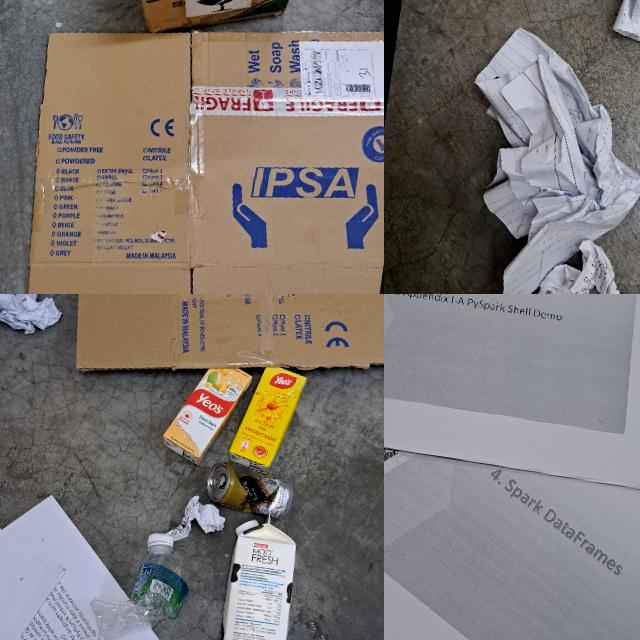aba de lata: (208, 475, 222, 489)
caixinha: (209, 507, 307, 640), (160, 358, 255, 472), (226, 362, 310, 478)
garrafa plástica: (85, 539, 194, 640)
lata: (204, 458, 297, 520)
papel: (384, 376, 640, 640), (441, 19, 640, 294), (384, 294, 640, 499), (0, 482, 215, 640), (165, 494, 228, 548), (0, 294, 66, 339), (0, 334, 11, 520)
papelão: (11, 0, 384, 294), (48, 294, 384, 429)
tampa plástica: (146, 532, 175, 550), (235, 518, 259, 538)
